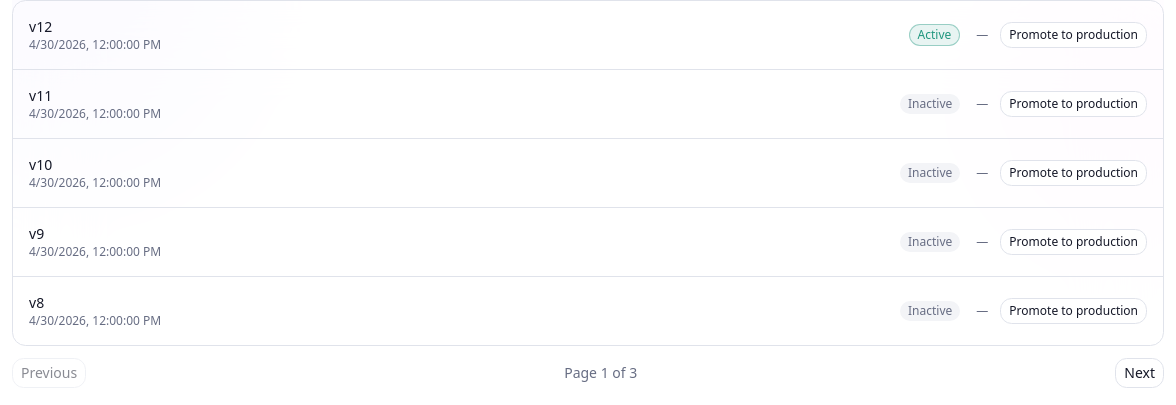
AgentVersionsList › paginates rows at the requested page size
The image size is (1176, 405).
expect the navigation bar with test id "agent-versions-pager" shows "Page 1 of 3": met, box x1=12 y1=358 x2=1164 y2=388
Click the button with test id "agent-versions-next" at (1140, 373), box x1=1115 y1=358 x2=1164 y2=388
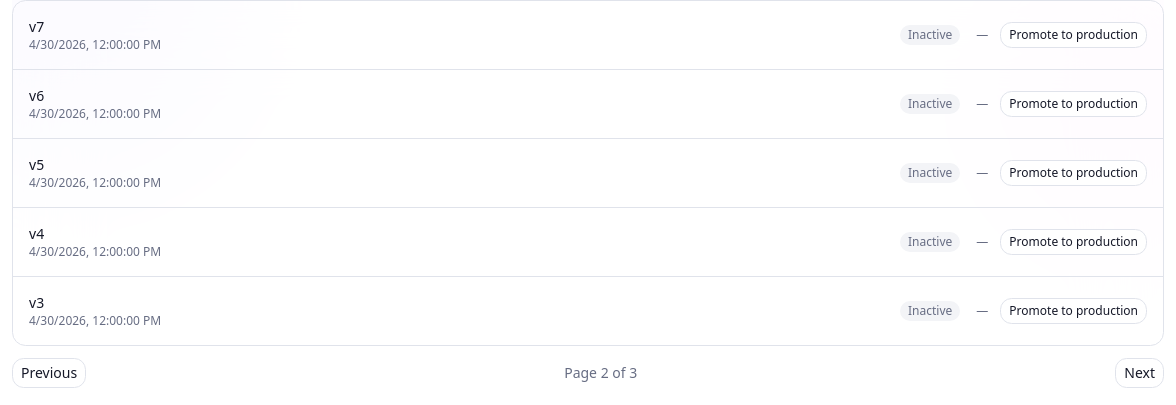
expect the navigation bar with test id "agent-versions-pager" shows "Page 2 of 3": met, box x1=12 y1=358 x2=1164 y2=388
Click the button with test id "agent-versions-next" at (1140, 373), box x1=1115 y1=358 x2=1164 y2=388
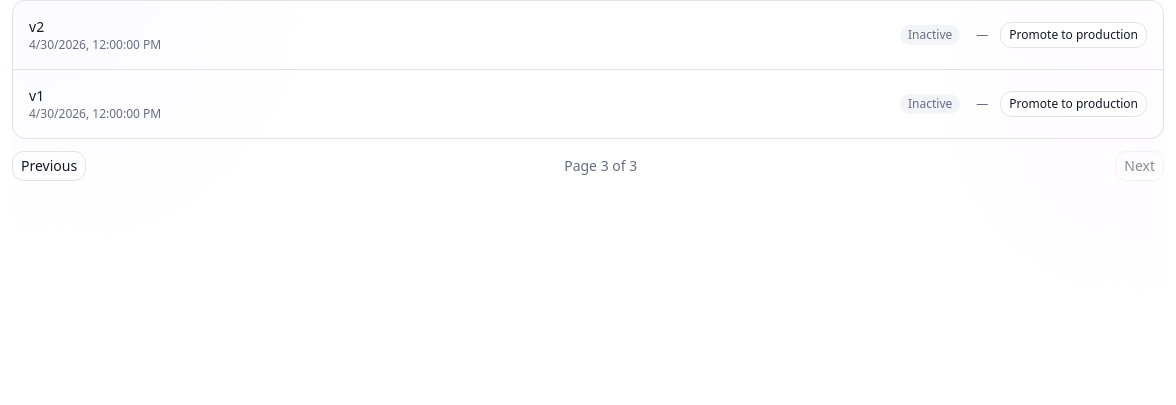
expect the navigation bar with test id "agent-versions-pager" shows "Page 3 of 3": met, box x1=12 y1=151 x2=1164 y2=181
expect the button with test id "agent-versions-next" is disabled: met, box x1=1115 y1=151 x2=1164 y2=181
